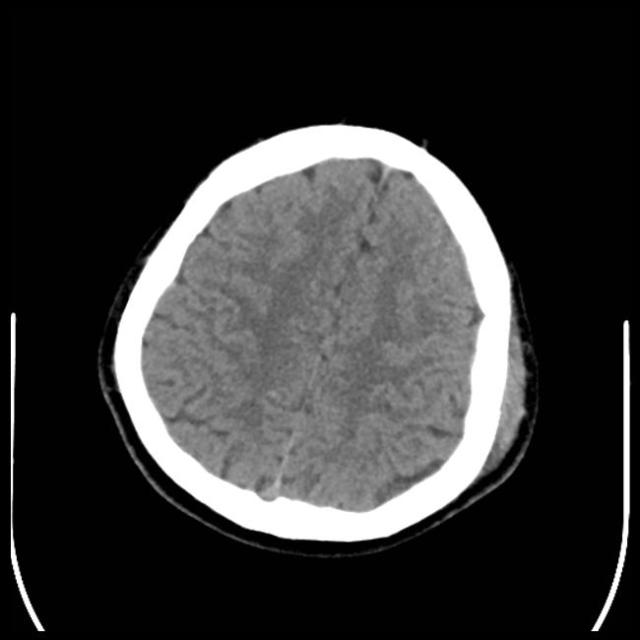lesion: (98, 119, 540, 555)
